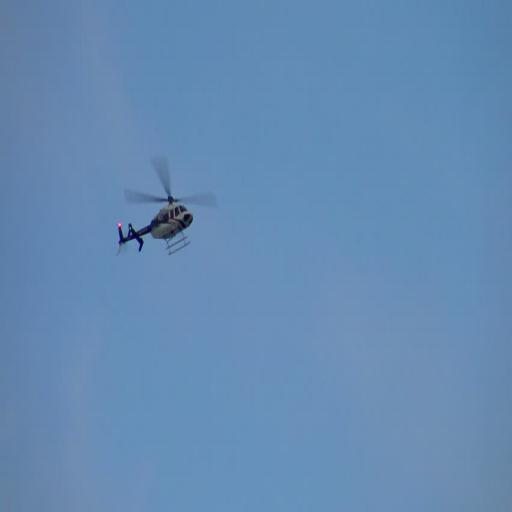helicopter: (117, 158, 216, 260)
